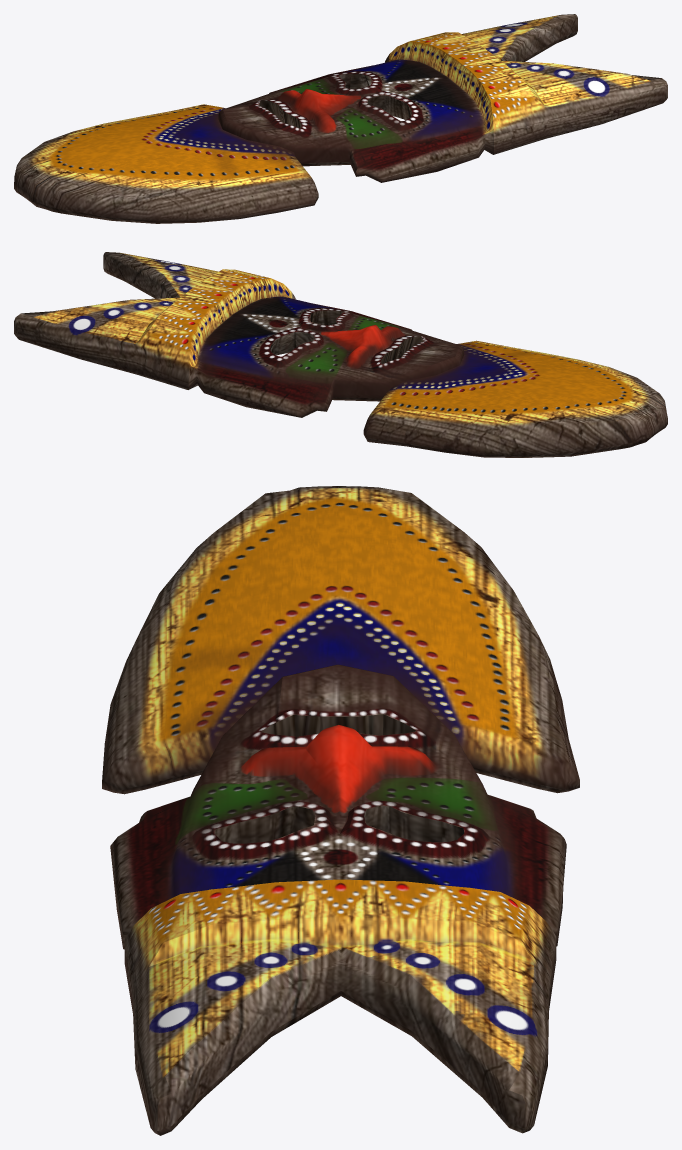
Rendered from MaskFemale.FBX.
3 renders of one model, top to bottom at view 1: azimuth 30°, elevation 25°; view 2: azimuth 150°, elevation 25°; view 3: azimuth 270°, elevation 25°, orthographic. The views are drawn at different scales.
Parts seen in each view (by area): view 1: FemaleMask; view 2: FemaleMask; view 3: FemaleMask.
Boxes of the visible parts, box(x1,y1,x2,y2) form: FemaleMask: box(14, 14, 667, 223); FemaleMask: box(14, 252, 667, 457); FemaleMask: box(102, 486, 579, 1135).
Size of the model in its own units: 1.23 by 0.1176 by 0.4253.
Materials: 1 (1 with a texture image).
